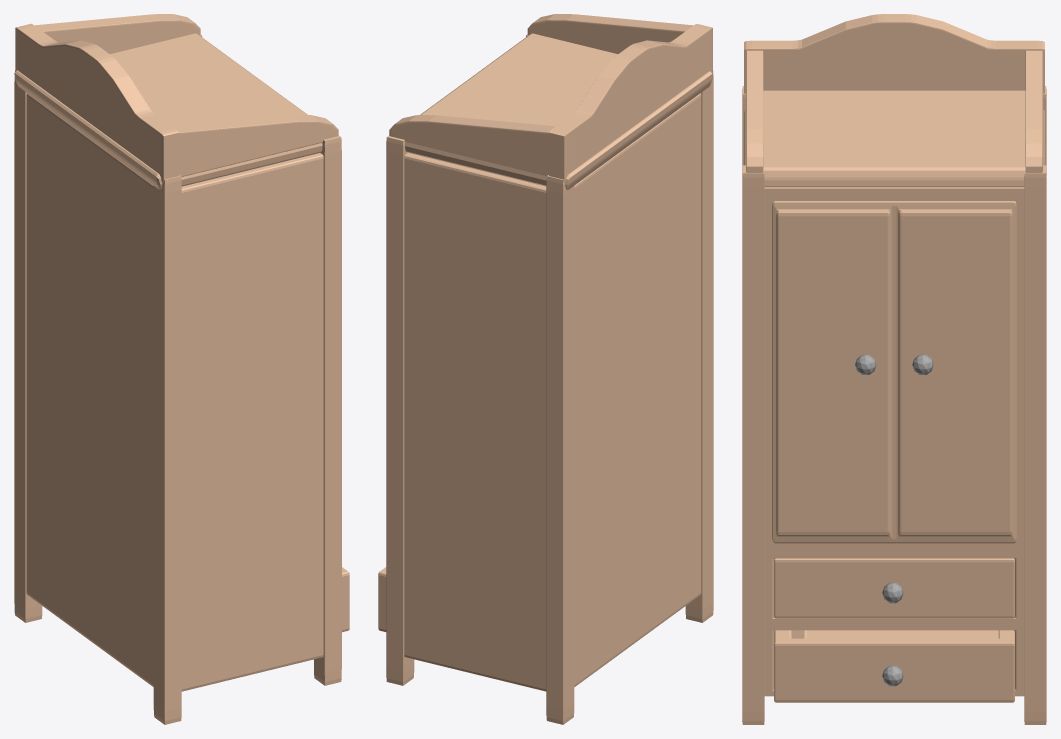
File: closet.fbx
The picture shows the model from 3 angles, left to right: view 1: azimuth 30°, elevation 25°; view 2: azimuth 150°, elevation 25°; view 3: azimuth 270°, elevation 25°; orthographic projection.
Parts seen in each view (by area): view 1: Wardrobe 1; view 2: Wardrobe 1; view 3: Wardrobe 1.
Part boxes in pixels (x1,y1,x2,y2): Wardrobe 1: [14, 14, 349, 724]; Wardrobe 1: [378, 14, 713, 724]; Wardrobe 1: [742, 14, 1046, 724].
Bounding box in the file's own units: 191 × 511 × 226.
